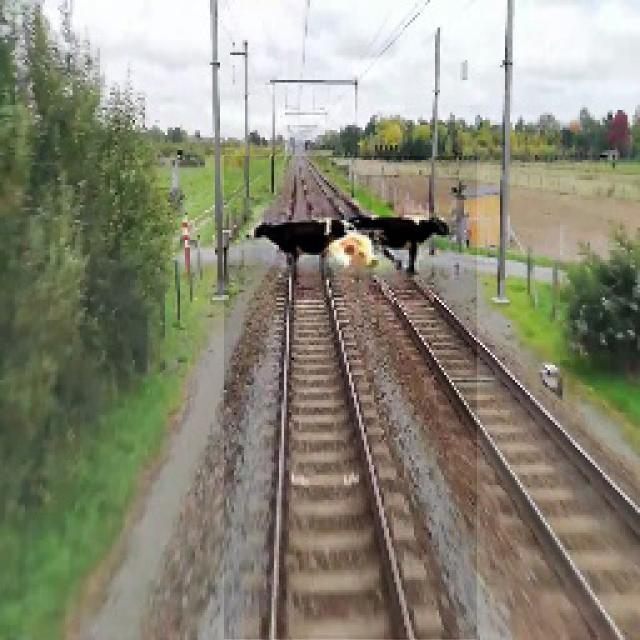rail: (225, 158, 478, 640)
